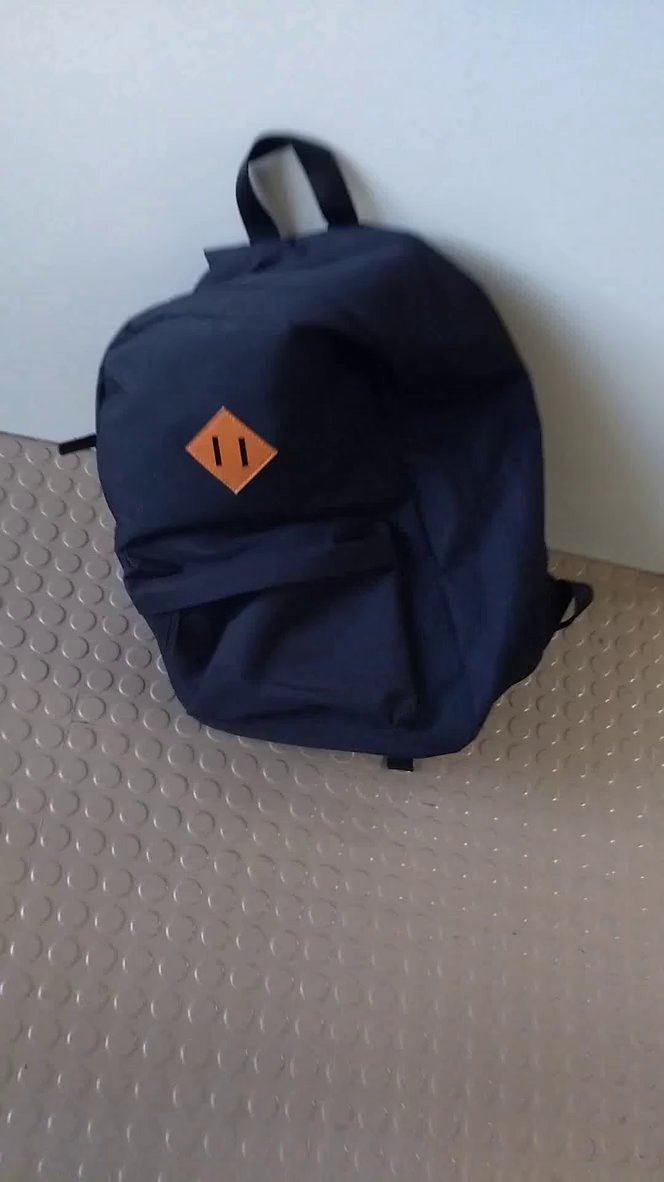bag: (36, 95, 610, 784)
